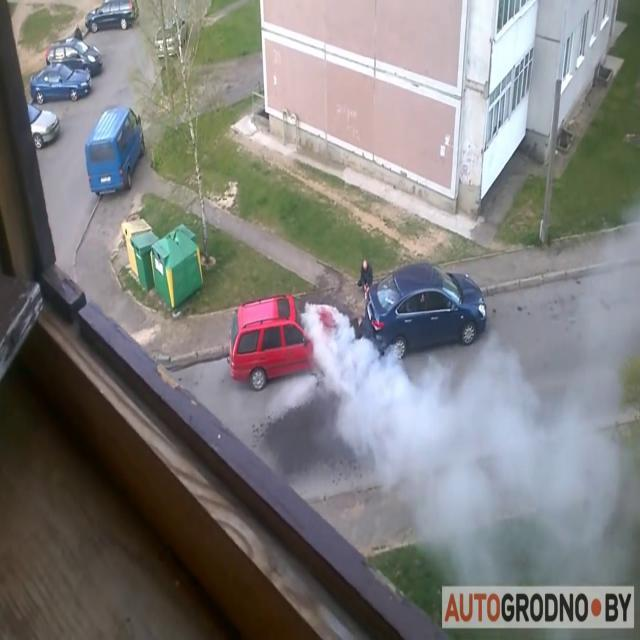Smoke: (308, 182, 640, 604)
